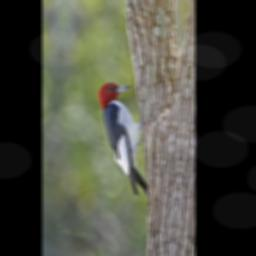Woodpecker: (88, 75, 162, 201)
